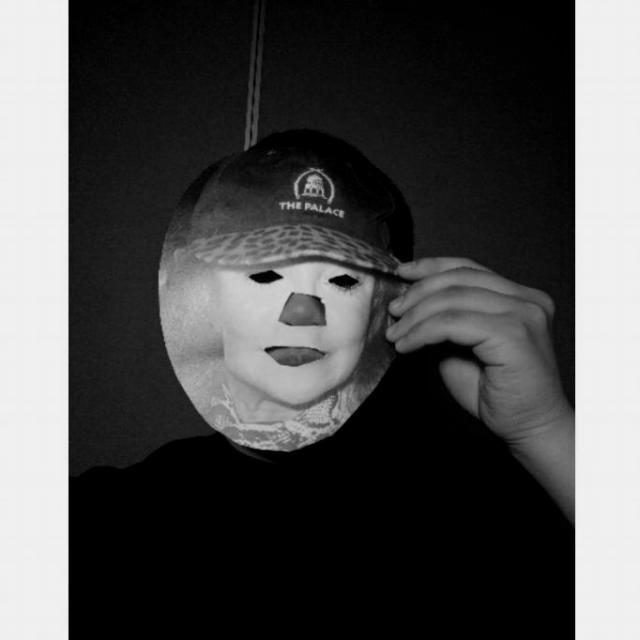fake: (154, 124, 420, 452)
